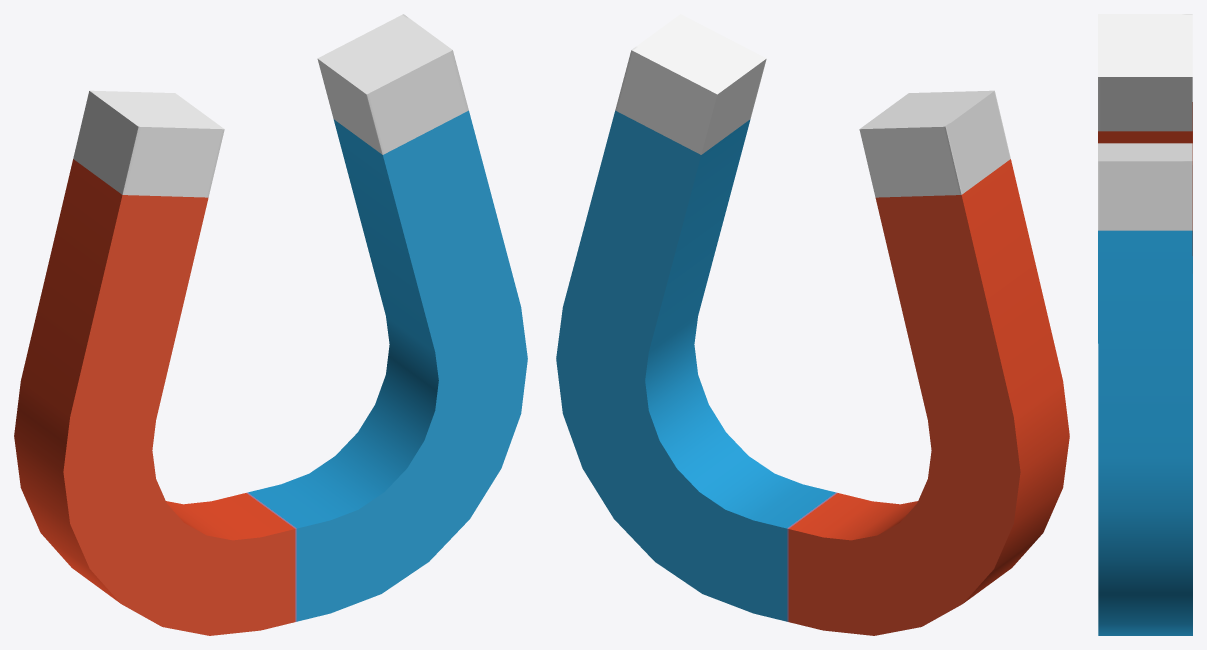
The model's file is magnet.FBX.
3 views of the same model, side by side, from view 1: azimuth 30°, elevation 25°; view 2: azimuth 150°, elevation 25°; view 3: azimuth 270°, elevation 25° (orthographic). The views are drawn at different scales.
Visible parts, largest first — view 1: magnet; view 2: magnet; view 3: magnet.
Boxes of the visible parts, bbox=[...] form: magnet: bbox=[14, 14, 527, 635]; magnet: bbox=[556, 14, 1069, 635]; magnet: bbox=[1098, 14, 1192, 635].
Bounding box in the file's own units: 30.82 × 33.83 × 5.68.
